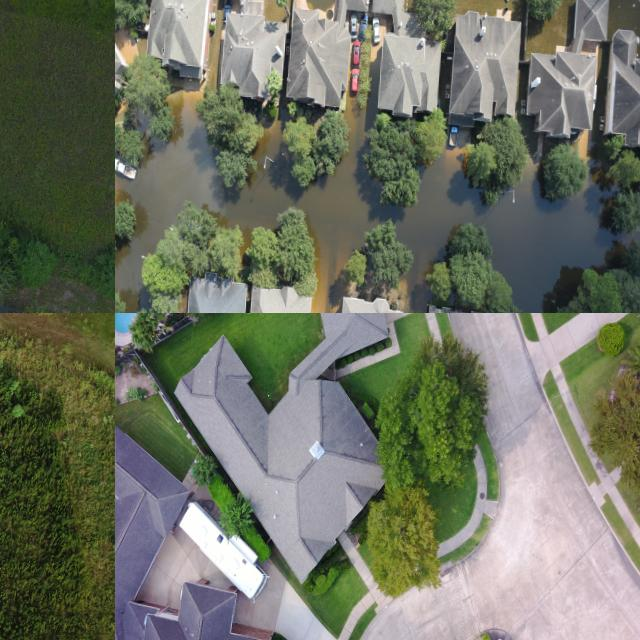fire: (115, 71, 632, 313)
